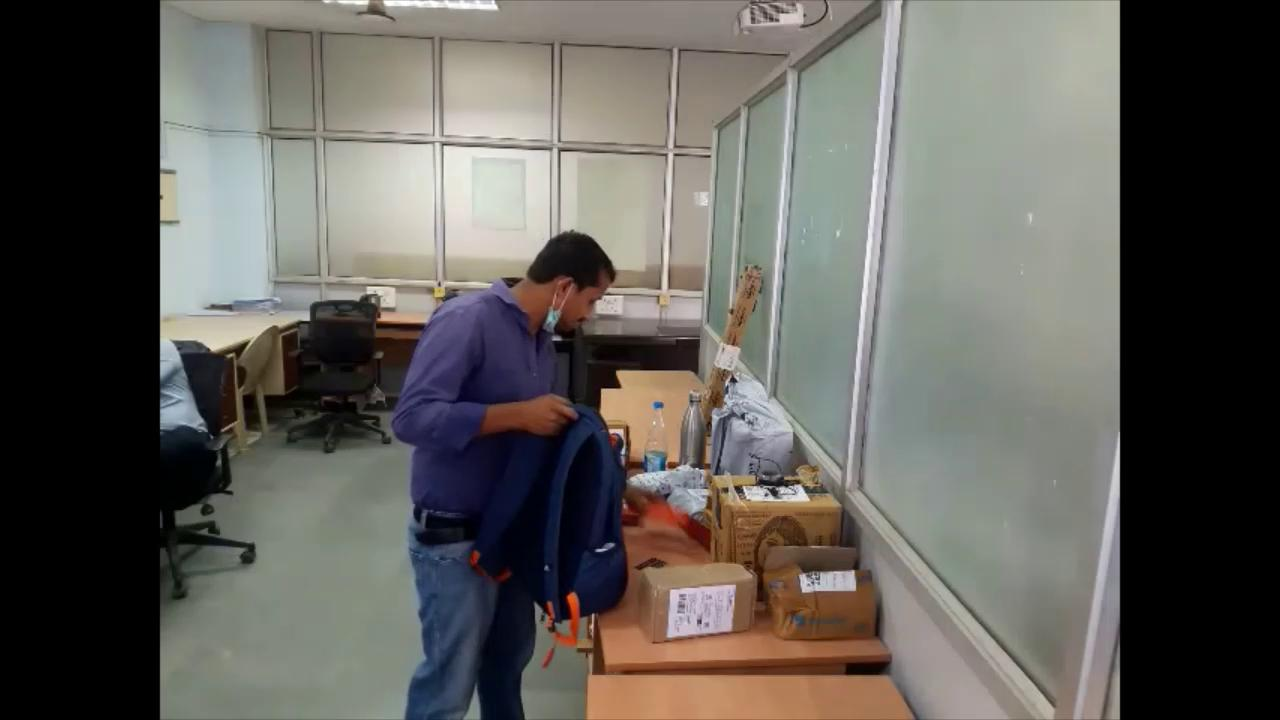shoplifting: (384, 228, 624, 720)
